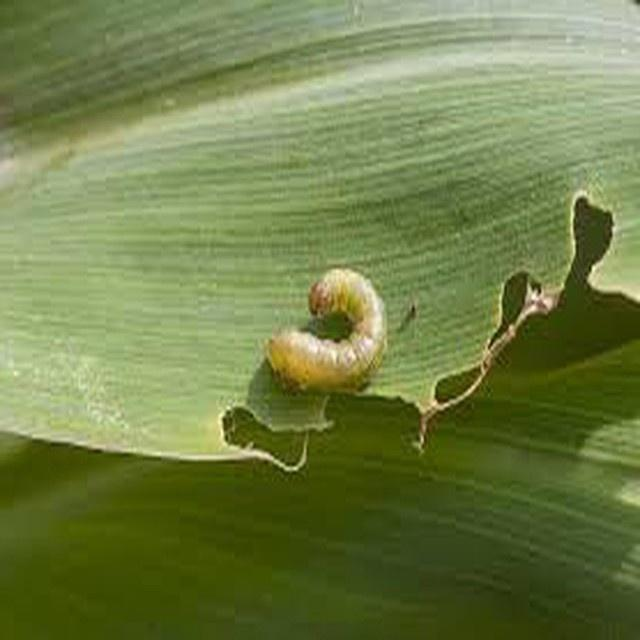gusano_cogollero: (262, 268, 388, 394)
